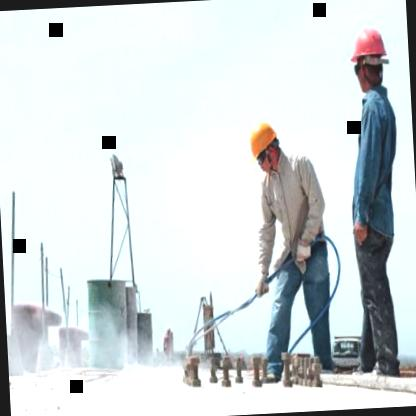helmet: (346, 19, 393, 96), (245, 113, 286, 182)
